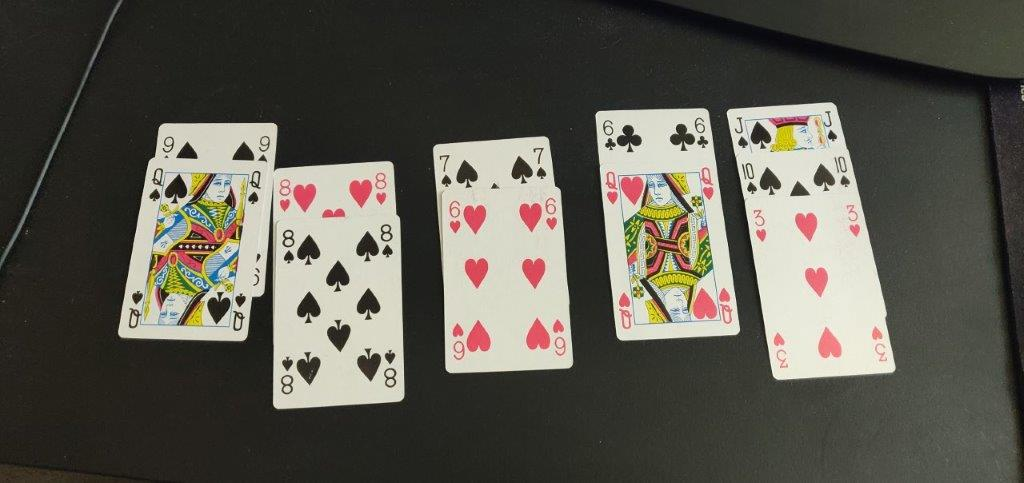10S: (831, 154, 855, 192), (740, 160, 761, 195)
3H: (843, 201, 867, 243), (750, 205, 772, 250)
6C: (599, 117, 618, 154), (692, 115, 712, 150)
6H: (542, 196, 562, 237), (445, 195, 465, 235)
7S: (435, 149, 455, 190), (530, 141, 550, 182)
8H: (275, 176, 293, 218), (373, 169, 391, 208)
8S: (376, 218, 398, 261), (279, 225, 300, 266)
JS: (730, 111, 753, 152), (820, 107, 841, 146)
QH: (601, 162, 621, 210), (695, 164, 716, 203)
QS: (140, 165, 167, 207), (243, 168, 264, 209)
